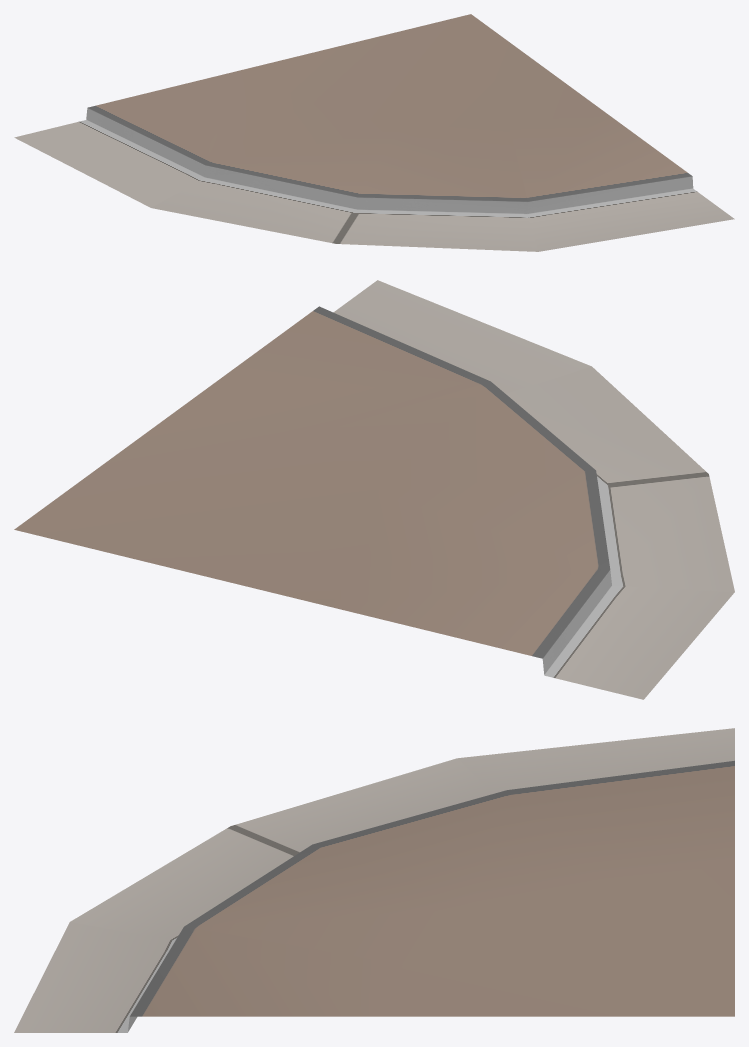
File: island_curve.fbx
3 views of the same model, one above another, from view 1: azimuth 30°, elevation 25°; view 2: azimuth 150°, elevation 25°; view 3: azimuth 270°, elevation 25° (orthographic). The views are drawn at different scales.
Visible parts, largest first — view 1: island_tile_curve; view 2: island_tile_curve; view 3: island_tile_curve.
Boxes of the visible parts, <box> form: island_tile_curve: <box>14,14,734,251</box>; island_tile_curve: <box>14,280,734,699</box>; island_tile_curve: <box>14,728,734,1032</box>.
Bounding box in the file's own units: 4 × 0.1399 × 4.
